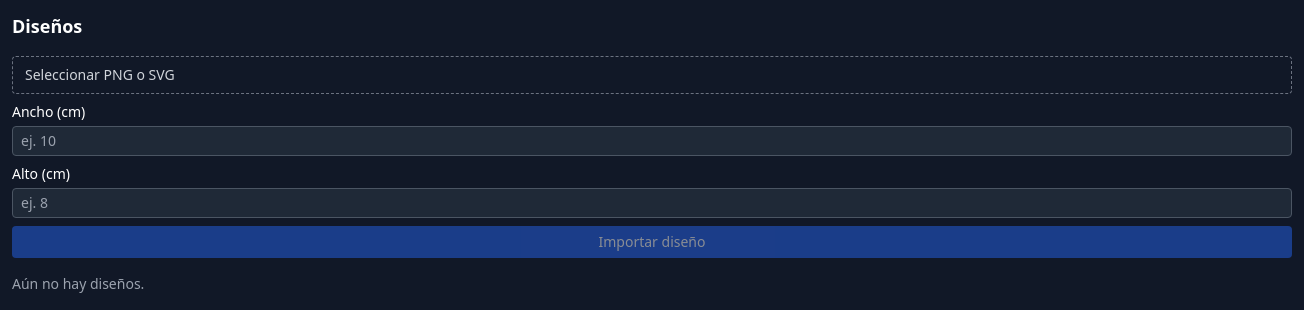
DesignList import UI › shows the selected filename after a successful file selection
The width and height of the screenshot is (1304, 310).
Click the button "Seleccionar PNG o SVG": (100, 74) [12, 56, 1292, 94]
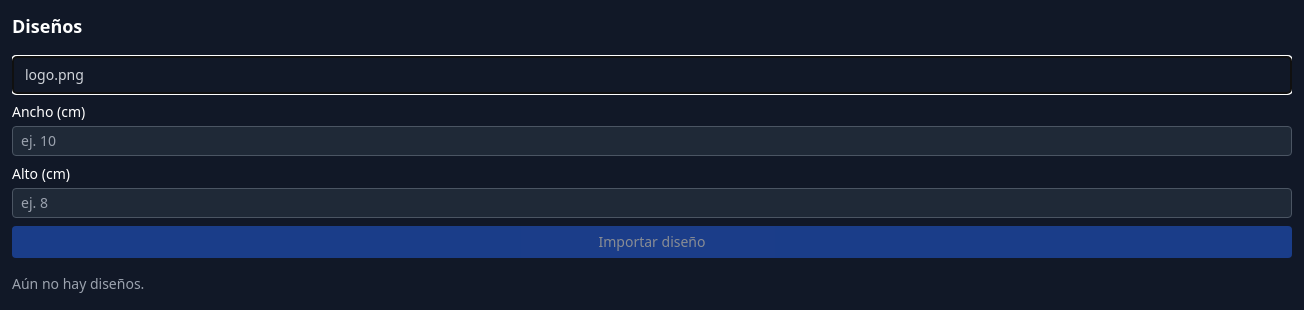
Expected: the text "logo.png" is shown, [25, 65, 84, 84]
